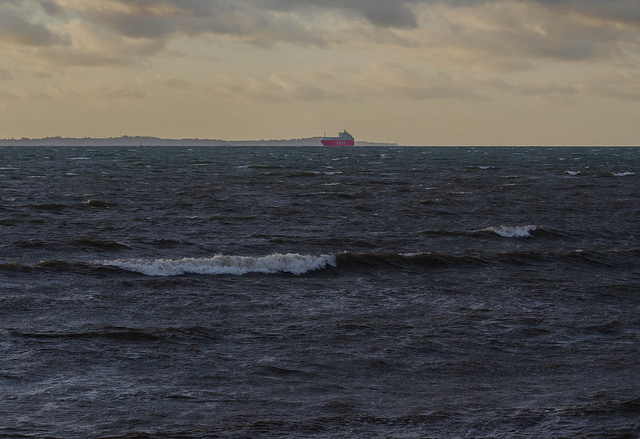PCC: (319, 130, 359, 146)
